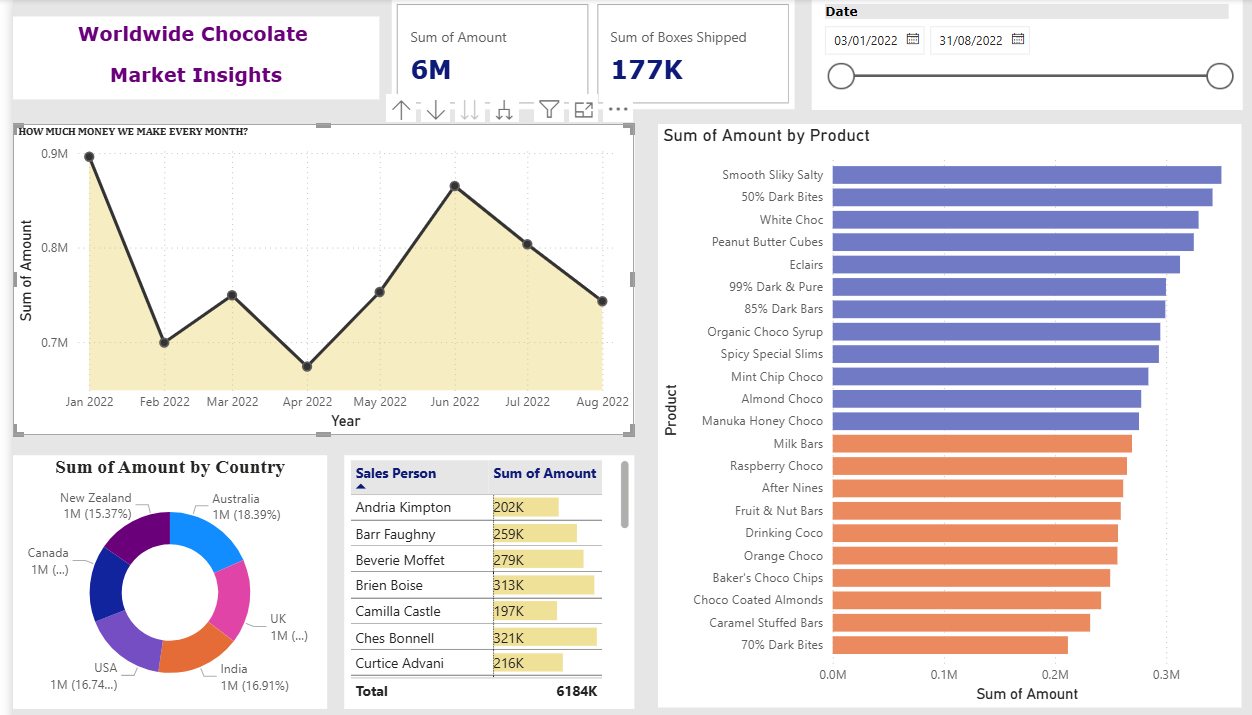

This screenshot's page, from the dashboard's own definition file:
{"tool":"powerbi","page":{"name":"Page 2","canvas":[1280,720],"ordinal":0},"visuals":[{"type":"lineChart","title":"HOW MUCH MONEY WE MAKE EVERY MONTH?","fields":{"Category":["data.Date.Variation.Date Hierarchy.Year","data.Date.Variation.Date Hierarchy.Quarter","data.Date.Variation.Date Hierarchy.Month","data.Date.Variation.Date Hierarchy.Day"],"Y":["data.Amount"]},"box":[0,120,600,300],"z":0},{"type":"donutChart","fields":{"Category":["data.Country"],"Y":["data.Amount"]},"box":[0,440,303.3,244.4],"z":1000},{"type":"tableEx","fields":{"Values":["data.Sales Person","data.Amount"]},"box":[320,440,280,244.4],"z":2000},{"type":"clusteredBarChart","fields":{"Category":["data.Product"],"Y":["data.Amount"]},"box":[622.2,121.1,563.3,563.3],"z":3000},{"type":"cardVisual","fields":{"Data":["data.Amount","data.Boxes Shipped"]},"box":[365.6,0,388.9,106.7],"z":4000},{"type":"slicer","fields":{"Values":["data.Date"]},"box":[770.9,0,415,106.2],"z":5000},{"type":"textbox","box":[0,16.9,353.5,79.6],"z":6000}]}

Visuals, with their boxes in screenshot pixels (x1, y1, x2, y2), scaled from the page's 1280x720 canvas onto the 1252x715 screenshot:
"HOW MUCH MONEY WE MAKE EVERY MONTH?" lineChart: bbox=[0, 119, 587, 417]
donutChart - data.Country x data.Amount: bbox=[0, 437, 297, 680]
tableEx - data.Sales Person x data.Amount: bbox=[313, 437, 587, 680]
clusteredBarChart - data.Product x data.Amount: bbox=[609, 120, 1160, 680]
cardVisual - data.Amount x data.Boxes Shipped: bbox=[358, 0, 738, 106]
slicer - data.Date: bbox=[754, 0, 1160, 105]
textbox: bbox=[0, 17, 346, 96]
